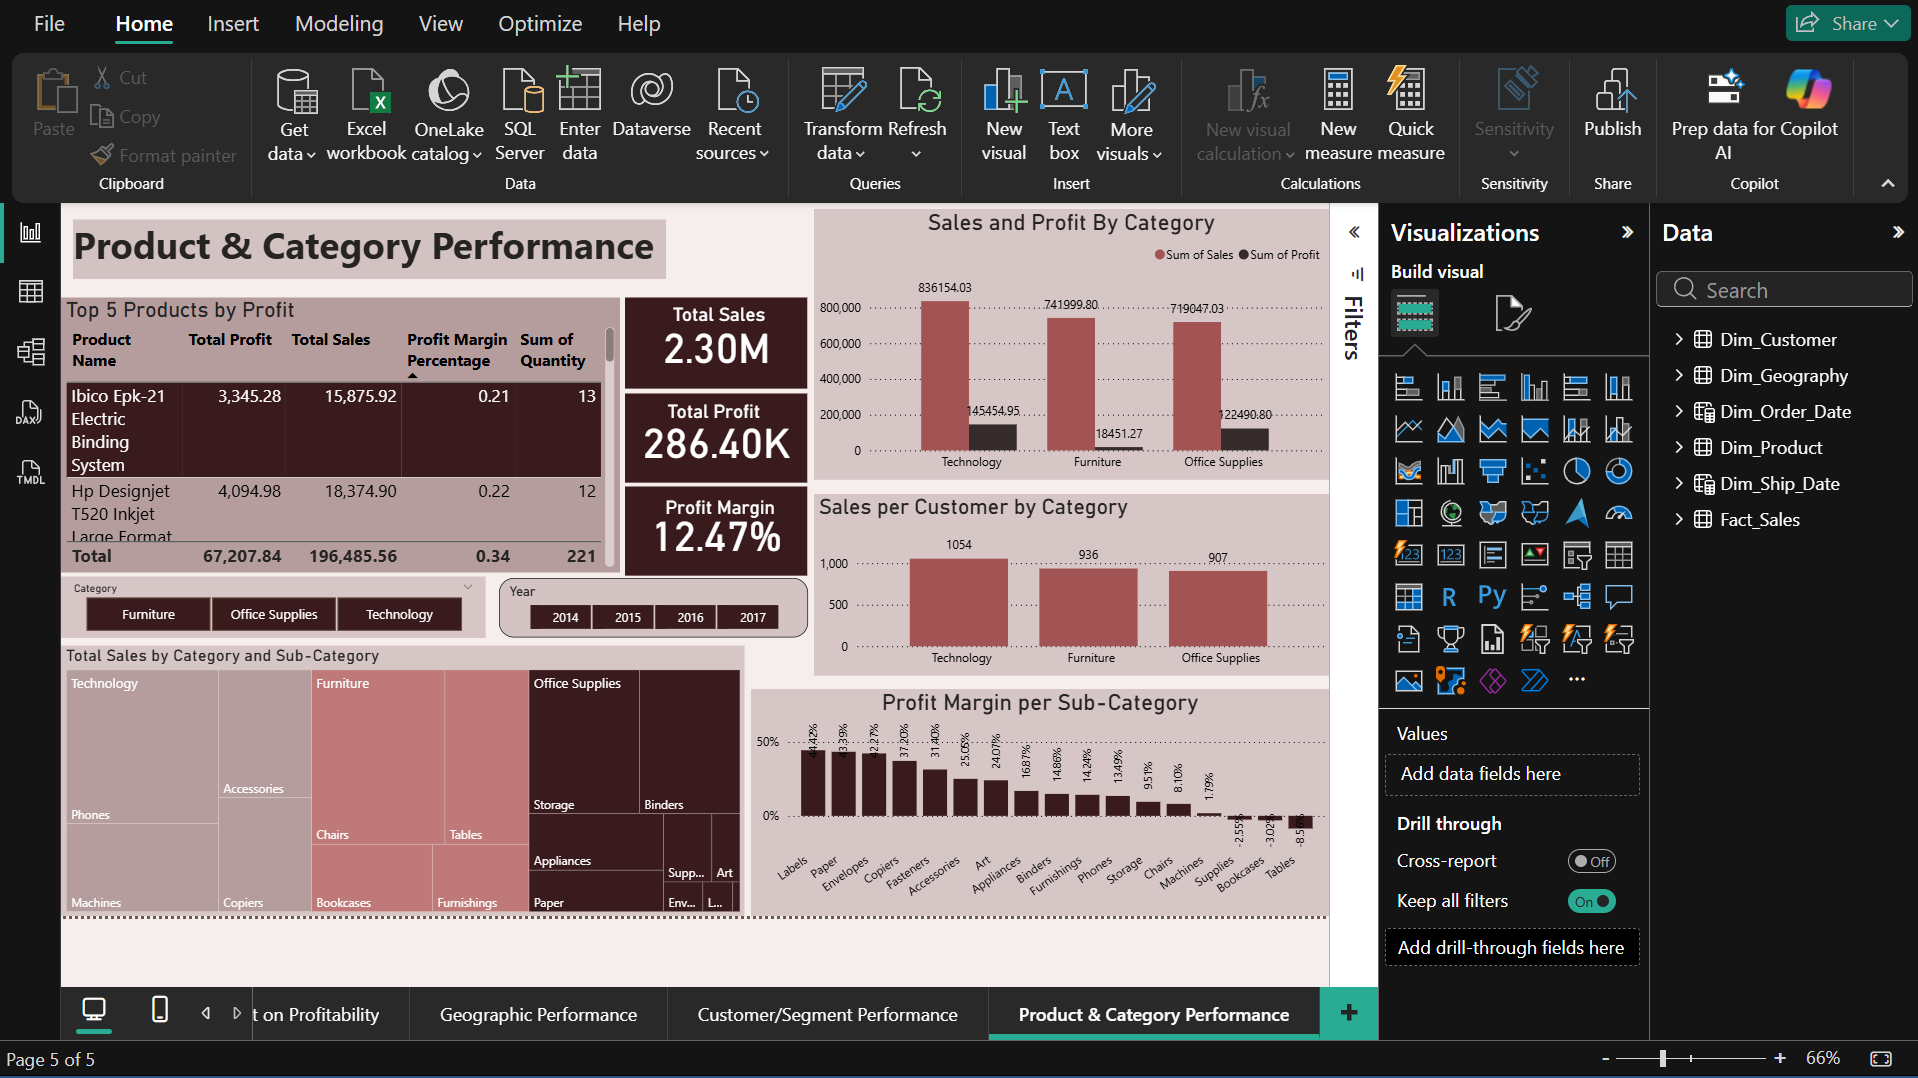

The dashboard page shown, as its layout file describes it:
{"tool":"powerbi","page":{"name":"Product & Category Performance","canvas":[1280,720],"ordinal":4},"visuals":[{"type":"clusteredColumnChart","title":"Sales and Profit By Category","fields":{"Y":["Sum(Fact_Sales.Sales)","Sum(Fact_Sales.Profit)"],"Category":["Dim_Product.Category"]},"box":[760,6.7,520,273.3],"z":0},{"type":"textbox","box":[12.9,17.1,598.6,60],"z":1000},{"type":"clusteredColumnChart","title":"Profit Margin per Sub-Category","fields":{"Y":["Fact_Sales.Profit Margin Percentage"],"Category":["Dim_Product.Sub-Category"]},"box":[695.8,490,584.2,230],"z":2000},{"type":"clusteredColumnChart","fields":{"Y":["Fact_Sales.Sales per Customer"],"Category":["Dim_Product.Category"]},"box":[760,293.3,520,183.3],"z":3000},{"type":"card","fields":{"Values":["Sum(Fact_Sales.Sales)"]},"box":[569.3,95.1,184,92],"z":4000},{"type":"textbox","box":[611.3,95.2,105,38.3],"z":5000},{"type":"card","fields":{"Values":["Sum(Fact_Sales.Profit)"]},"box":[570,192.5,184,90],"z":6000},{"type":"textbox","box":[607.6,193.7,114.2,44.2],"z":7000},{"type":"card","fields":{"Values":["Fact_Sales.Profit Margin Percentage"]},"box":[569.6,286.8,184,90],"z":8000},{"type":"textbox","box":[599,290.6,131.7,43.3],"z":9000},{"type":"tableEx","title":"Top 5 Products by Profit","fields":{"Values":["Dim_Product.Product Name","Fact_Sales.Total Profit","Fact_Sales.Total Sales","Fact_Sales.Profit Margin Percentage","Sum(Fact_Sales.Quantity)"]},"box":[0,95,563.3,276.7],"z":10000},{"type":"slicer","title":"Year","fields":{"Values":["Dim_Order_Date.Year"]},"box":[441.7,378.3,311.7,60],"z":11000},{"type":"treemap","fields":{"Group":["Dim_Product.Category"],"Details":["Dim_Product.Sub-Category"],"Values":["Fact_Sales.Total Sales"]},"box":[0,446.7,690,273.3],"z":12000},{"type":"slicer","fields":{"Values":["Dim_Product.Category"]},"box":[0,376.7,428.3,61.7],"z":13000}]}

Visuals, with their boxes on the page's 1280x720 design canvas (x1, y1, x2, y2). These are canvas units, not pixel positions in the 1918x1078 screenshot, which may show the page scaled, cropped or inside an application window:
"Sales and Profit By Category" clusteredColumnChart: rect(760, 7, 1280, 280)
textbox: rect(13, 17, 612, 77)
"Profit Margin per Sub-Category" clusteredColumnChart: rect(696, 490, 1280, 720)
clusteredColumnChart - Fact_Sales.Sales per Customer x Dim_Product.Category: rect(760, 293, 1280, 477)
card - Sum(Fact_Sales.Sales): rect(569, 95, 753, 187)
textbox: rect(611, 95, 716, 134)
card - Sum(Fact_Sales.Profit): rect(570, 192, 754, 282)
textbox: rect(608, 194, 722, 238)
card - Fact_Sales.Profit Margin Percentage: rect(570, 287, 754, 377)
textbox: rect(599, 291, 731, 334)
"Top 5 Products by Profit" tableEx: rect(0, 95, 563, 372)
"Year" slicer: rect(442, 378, 753, 438)
treemap - Dim_Product.Category x Dim_Product.Sub-Category: rect(0, 447, 690, 720)
slicer - Dim_Product.Category: rect(0, 377, 428, 438)
